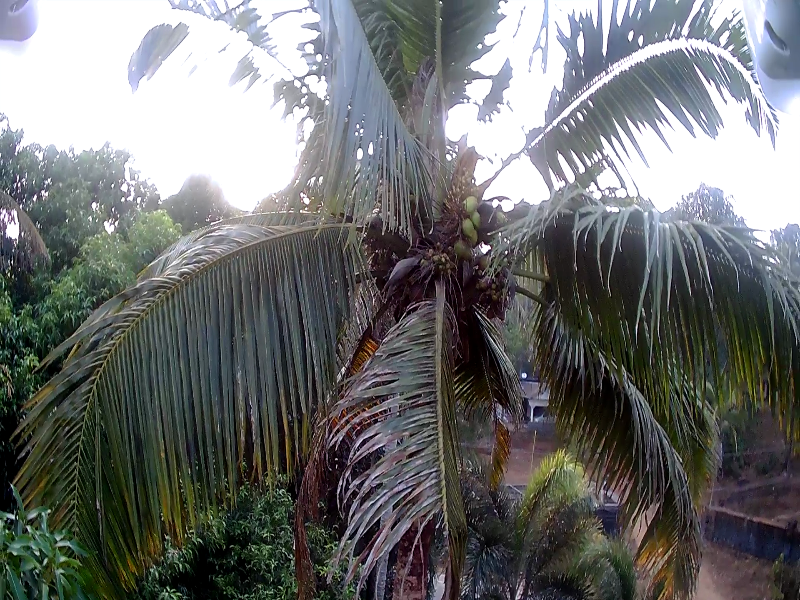coconut: (479, 275, 501, 300), (427, 253, 449, 274), (455, 220, 475, 239), (467, 211, 483, 232), (480, 251, 494, 271), (456, 240, 468, 258), (464, 200, 478, 213)
